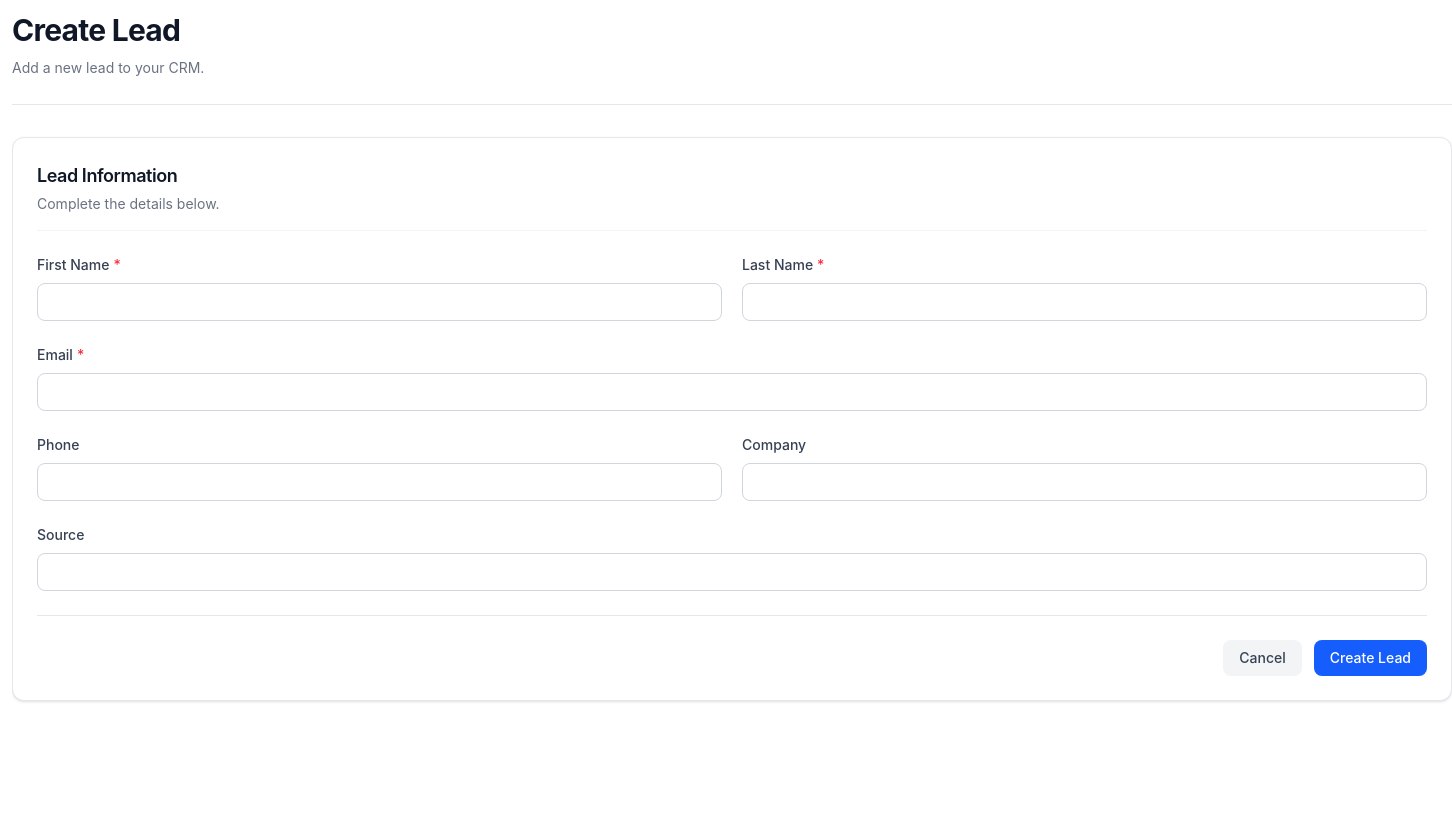
Test case: LeadFormPage (create) › requires first name, last name and email
Step 1. Click the button "Create Lead" → (1370, 658), box [1314, 640, 1427, 676]
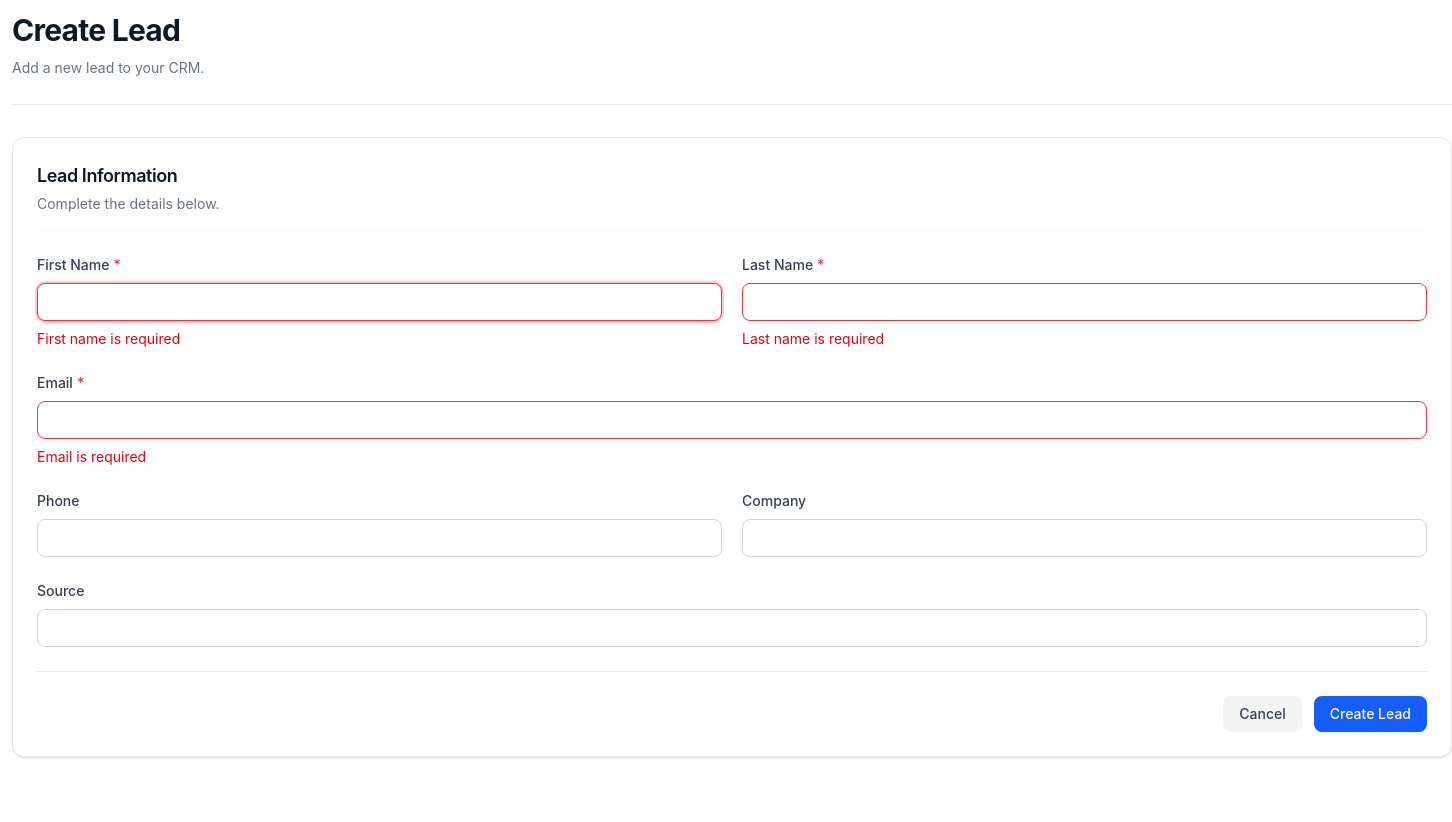
Expected: the text "First name is required" is shown, [37, 330, 180, 347]
Expected: the text "Last name is required" is shown, [742, 330, 884, 347]
Expected: the text "Email is required" is shown, [37, 448, 146, 465]
